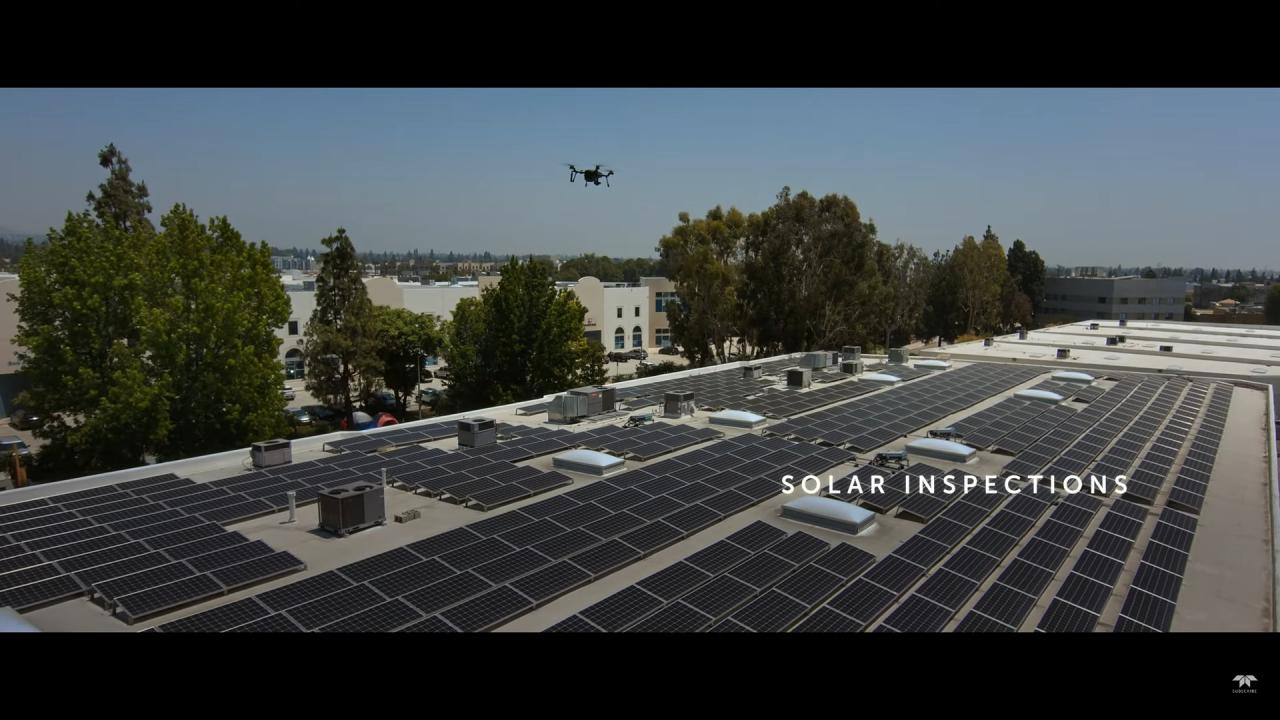Drone: (556, 153, 624, 196)
